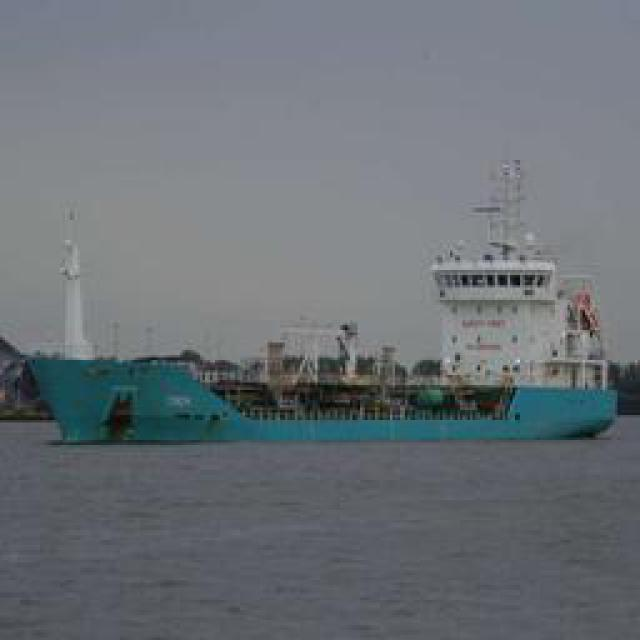Ship: (21, 168, 622, 454)
